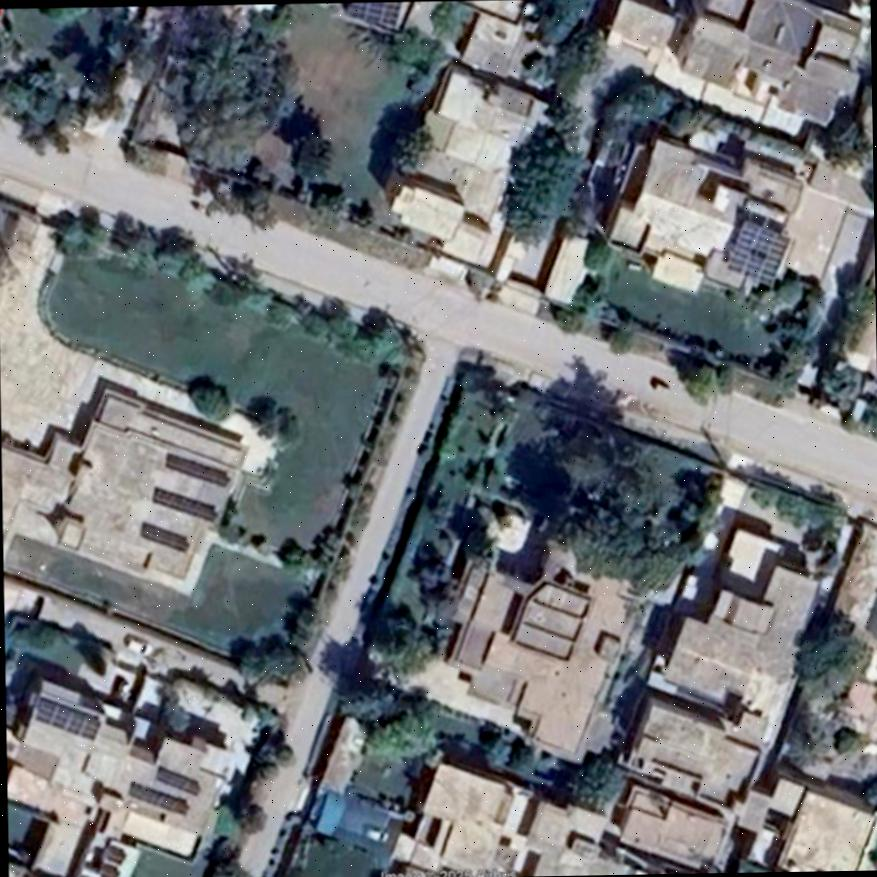Solarpanel: (723, 218, 788, 285), (34, 696, 99, 740), (149, 488, 219, 521), (166, 454, 229, 483), (129, 783, 187, 811), (139, 525, 189, 551), (348, 1, 399, 23), (155, 767, 197, 791)
